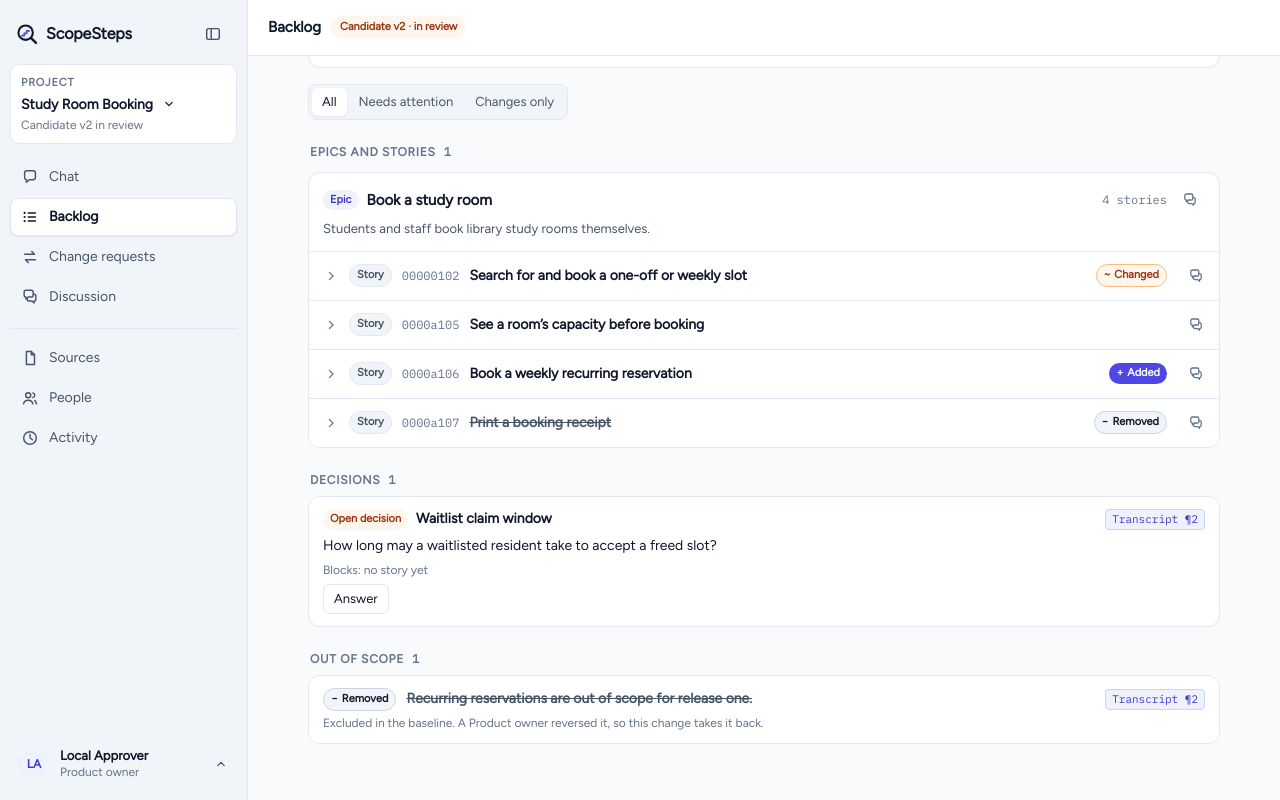
it: A change candidate's other open decisions › lets an approver answer one on the candidate, at the revision on screen
The width and height of the screenshot is (1280, 800).
(page scrolled)
Click the button with aria-label "Answer: Waitlist claim window".
click(356, 599)  # box [323,584,389,614]
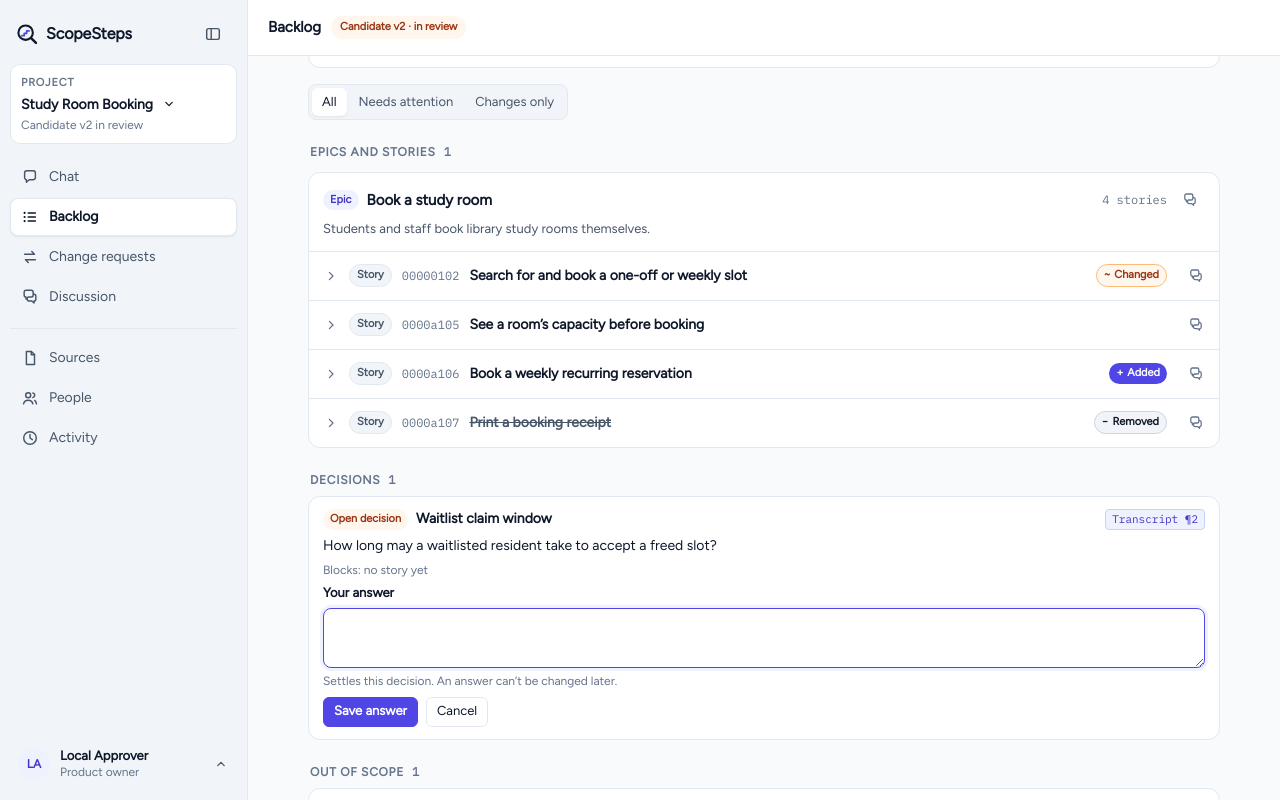
Type "Two hours." into the text box labelled "Your answer".
click(764, 638); type("Two hours.")  # box [323,608,1205,668]
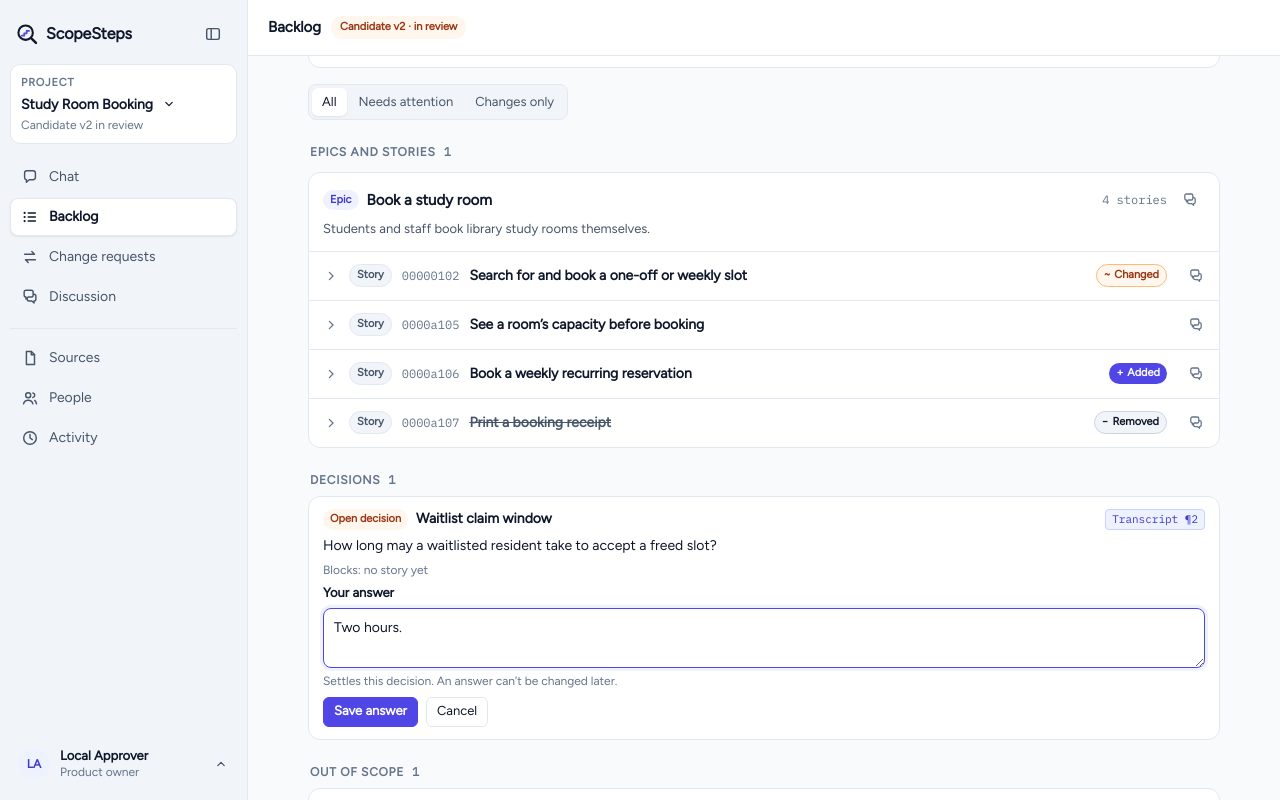
Click the button "Save answer".
click(370, 712)  # box [323,697,418,727]
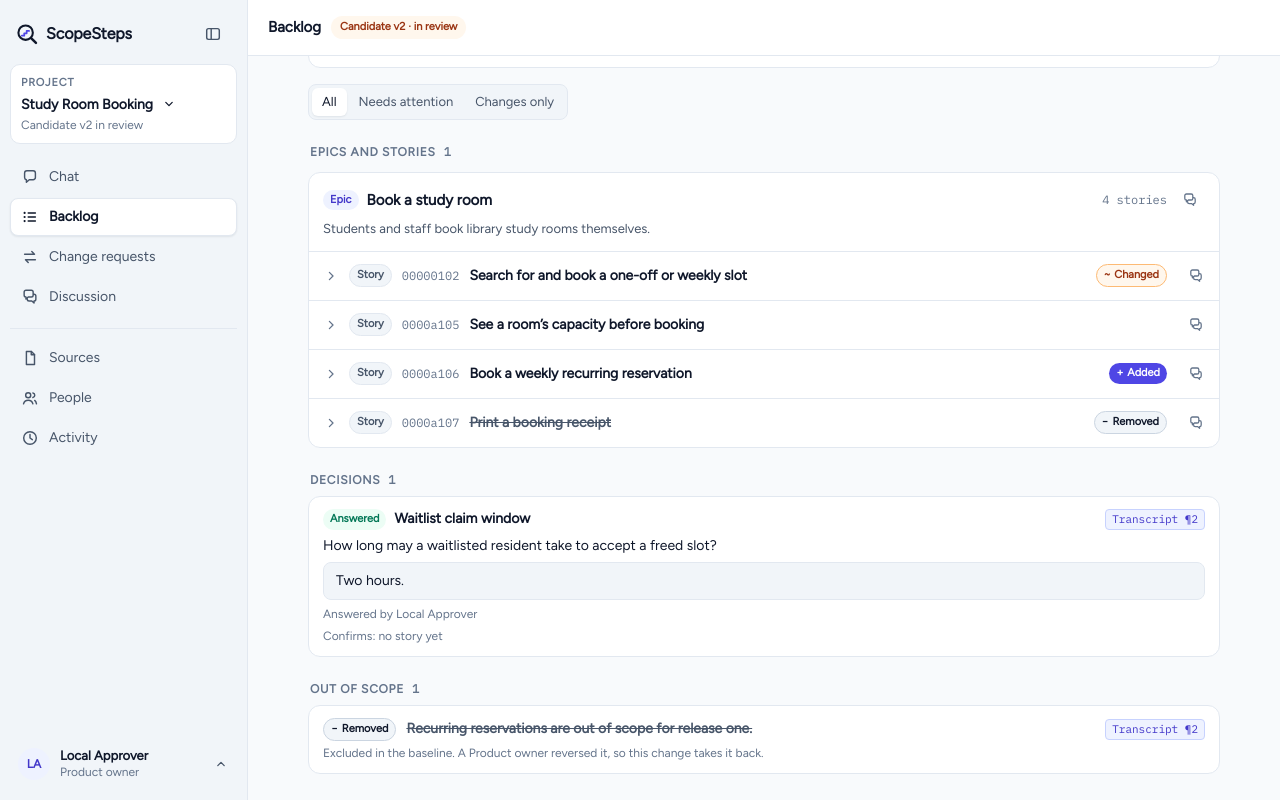
Now the text "Two hours." is shown, box [323,562,1205,600]
